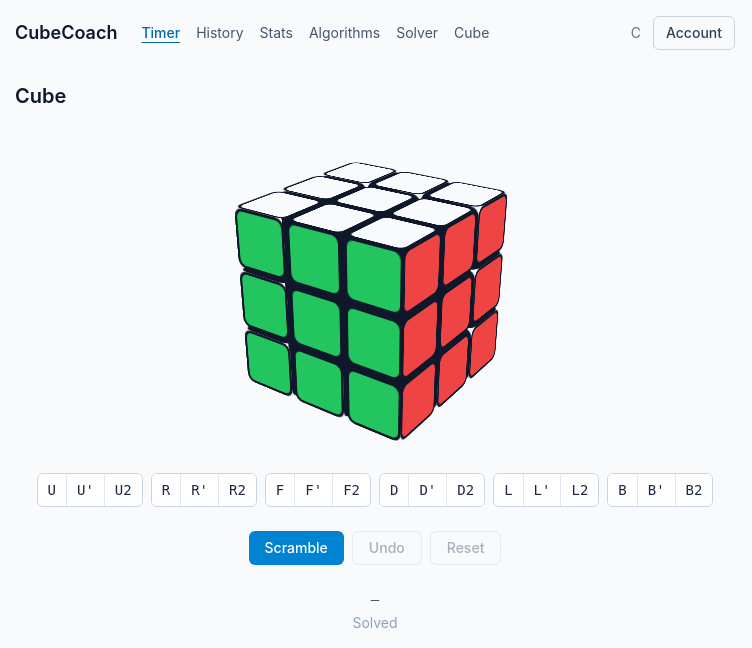
Test: CubePlayground › records the moves applied as an algorithm
Click the button "R" at (166, 490), box [152,474,181,506]
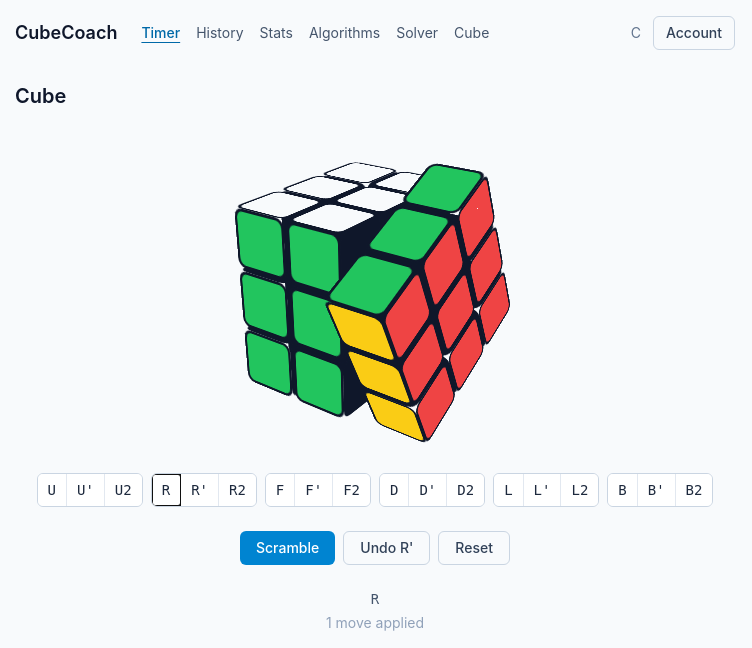
Click the button "U2" at (123, 490), box [105,474,142,506]
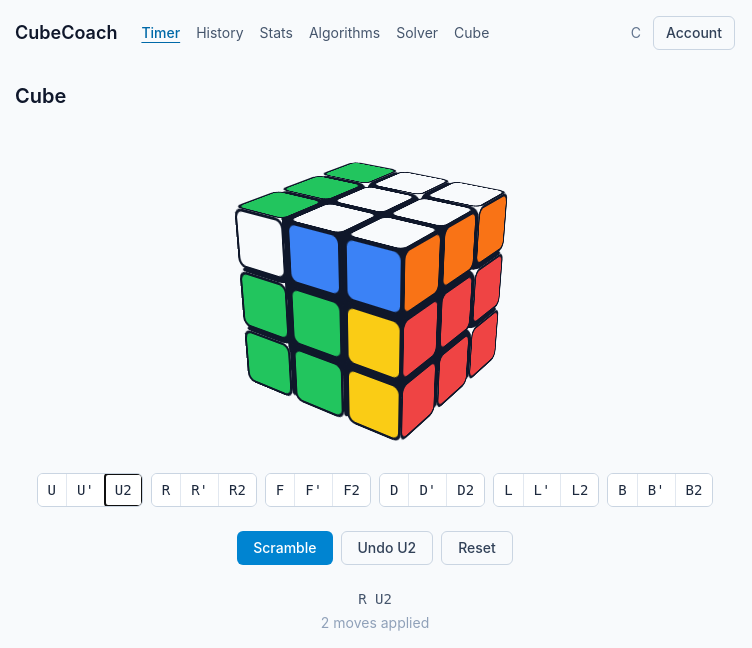
Now the text "R U2" is shown, box [358,591,392,607]
